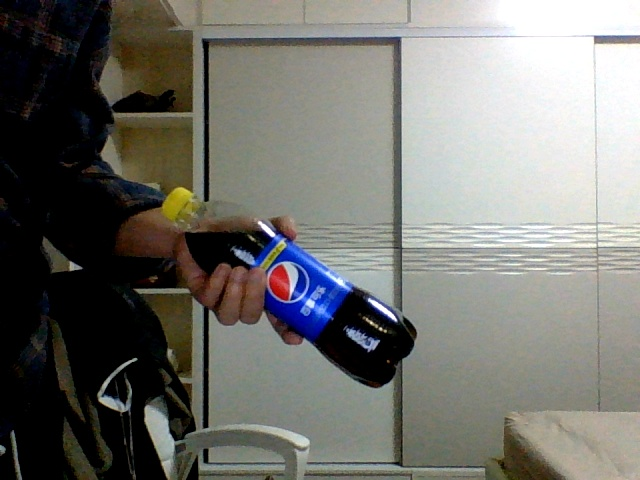Cola: (160, 187, 418, 386)
